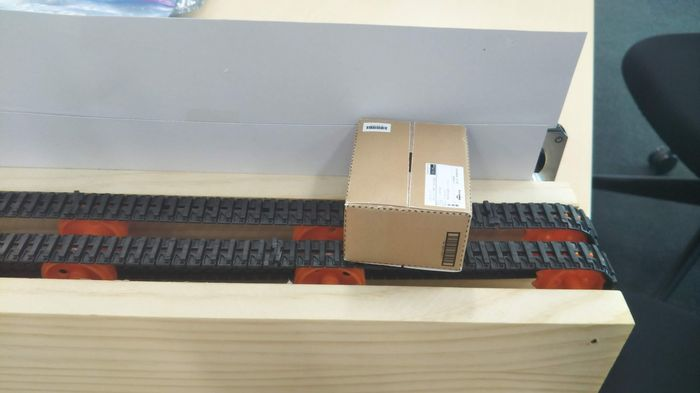box1: (337, 112, 474, 275)
